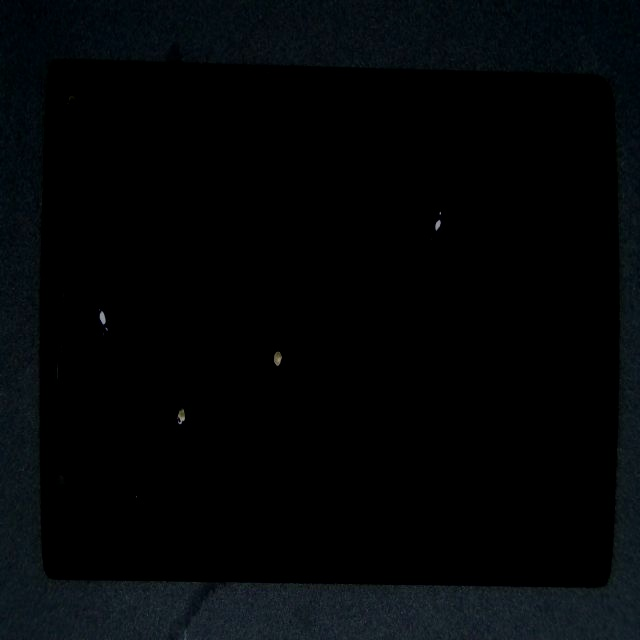stain: (154, 206, 435, 520), (234, 137, 640, 325), (106, 155, 266, 600), (56, 113, 140, 440)
